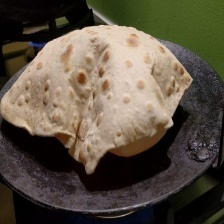roti: (0, 17, 199, 179)
